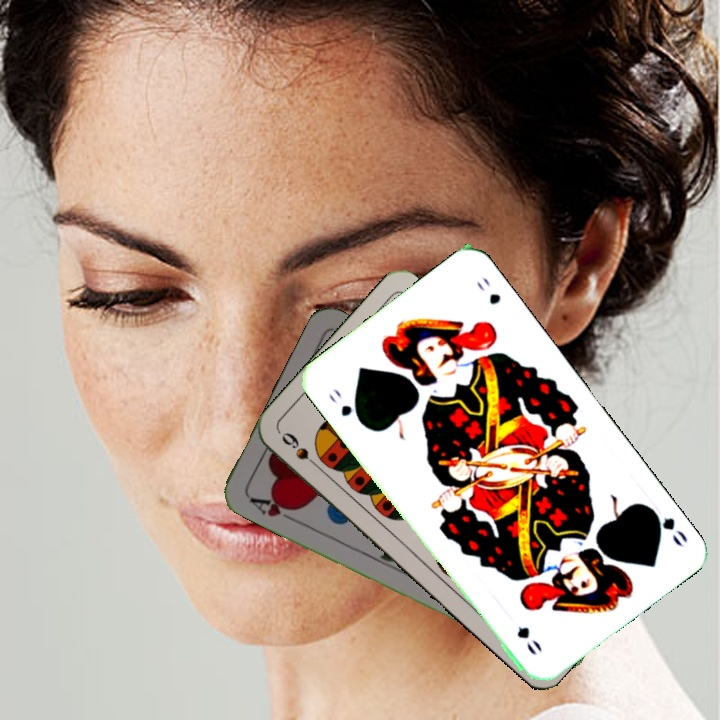GO: (643, 502, 690, 550), (324, 383, 366, 427)
HA: (245, 492, 302, 525)
S9: (277, 428, 325, 473)
